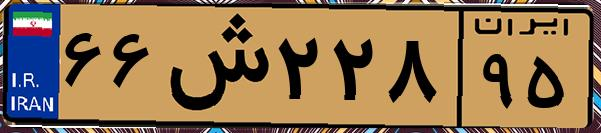2: (270, 28, 330, 110), (330, 28, 385, 110)
5: (525, 38, 570, 115)
6: (57, 26, 110, 100), (110, 28, 158, 98)
8: (385, 28, 445, 110)
9: (475, 38, 525, 113)
ش: (158, 12, 270, 120)
